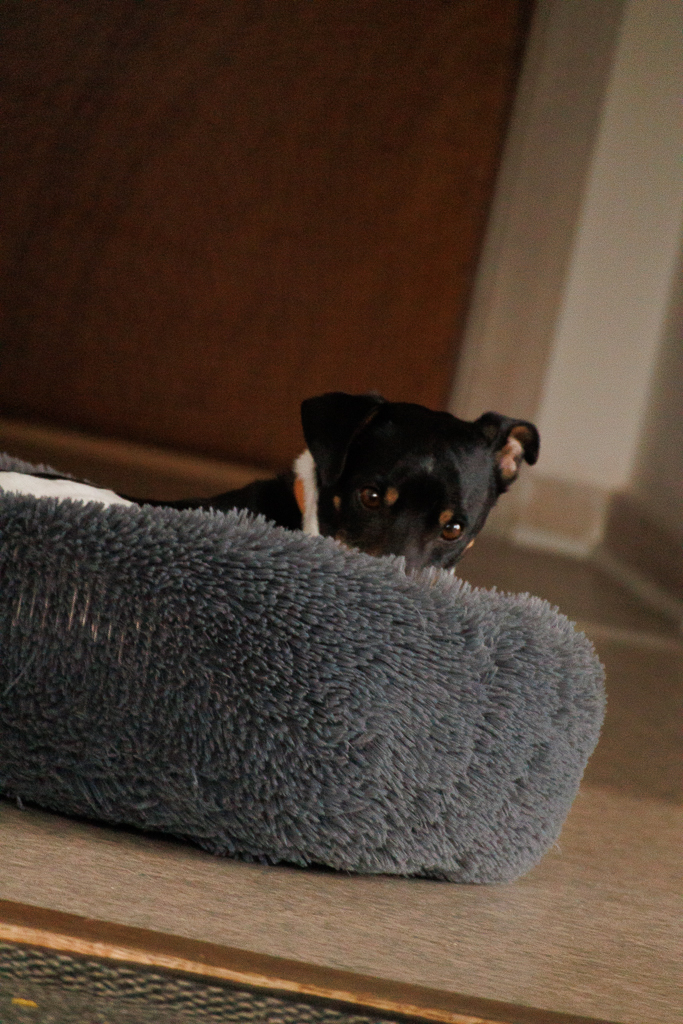Dog: (0, 385, 552, 587)
